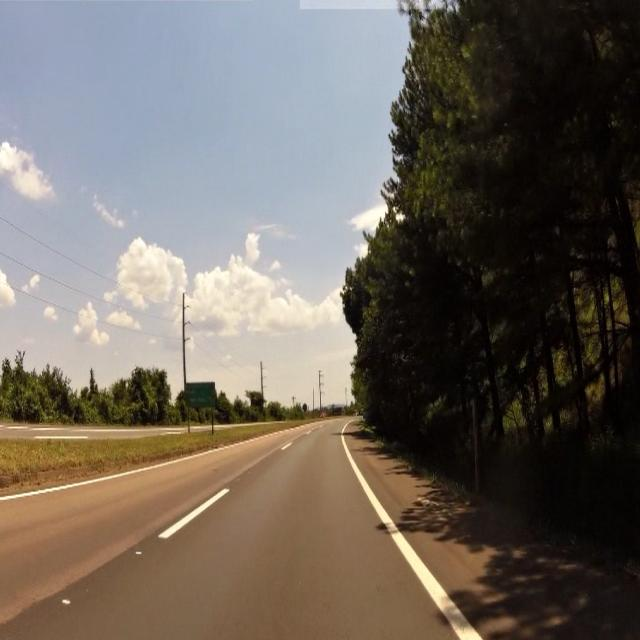I-4: (187, 384, 214, 408)
